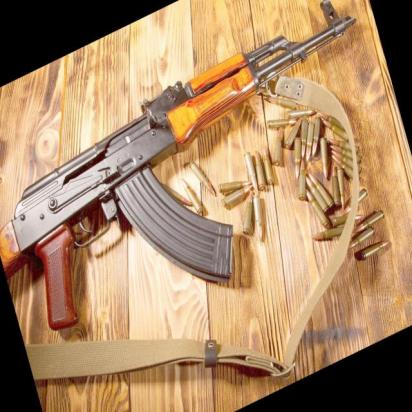Gun: (0, 0, 412, 367)
